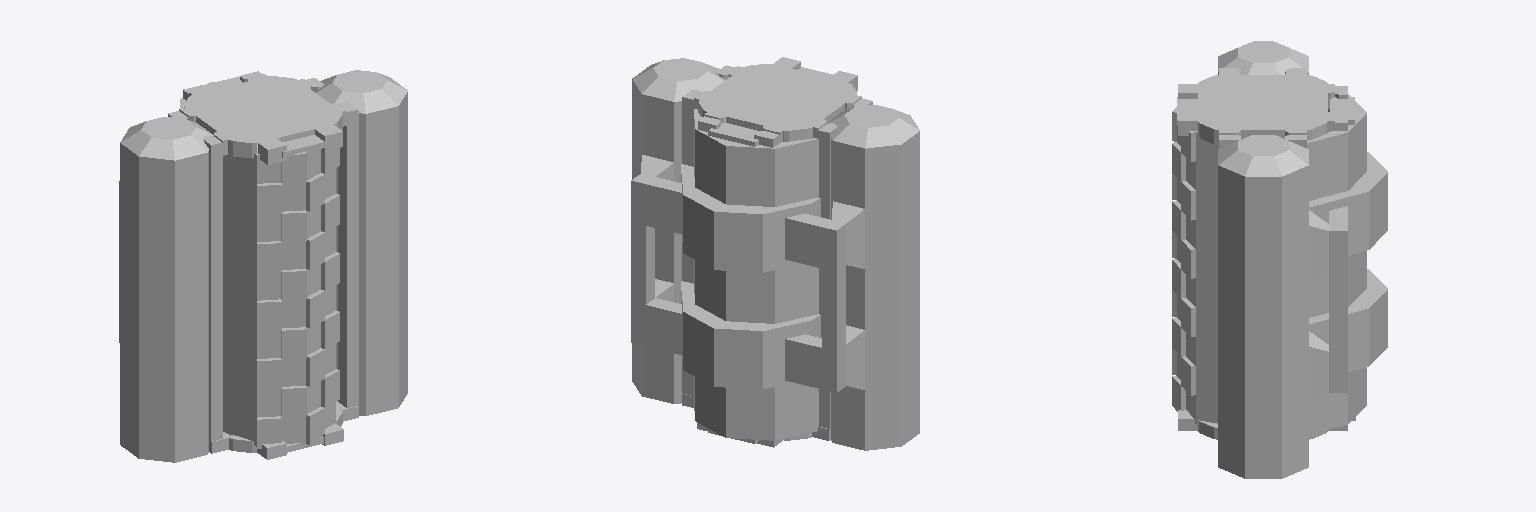
Rendered from decontamination_unit.obj.
The picture shows the model from 3 angles: view 1: azimuth 30°, elevation 25°; view 2: azimuth 150°, elevation 25°; view 3: azimuth 270°, elevation 25°; orthographic projection.
Visible parts, largest first — view 1: Water_Baloons, Glass_Door, Body; view 2: Water_Baloons, The_back_wall, Body; view 3: Water_Baloons, The_back_wall, Glass_Door, Body.
Part boxes in pixels (x1,y1,x2,y2): Water_Baloons: (119, 70, 407, 462); Glass_Door: (223, 148, 339, 448); Body: (168, 71, 358, 459); Water_Baloons: (631, 58, 919, 450); The_back_wall: (681, 109, 820, 440); Body: (682, 57, 872, 447); Water_Baloons: (1218, 41, 1347, 478); The_back_wall: (1307, 94, 1387, 434); Glass_Door: (1172, 107, 1218, 424); Body: (1177, 68, 1355, 439).
Bounding box in the file's own units: 23.8 × 26.51 × 16.55.